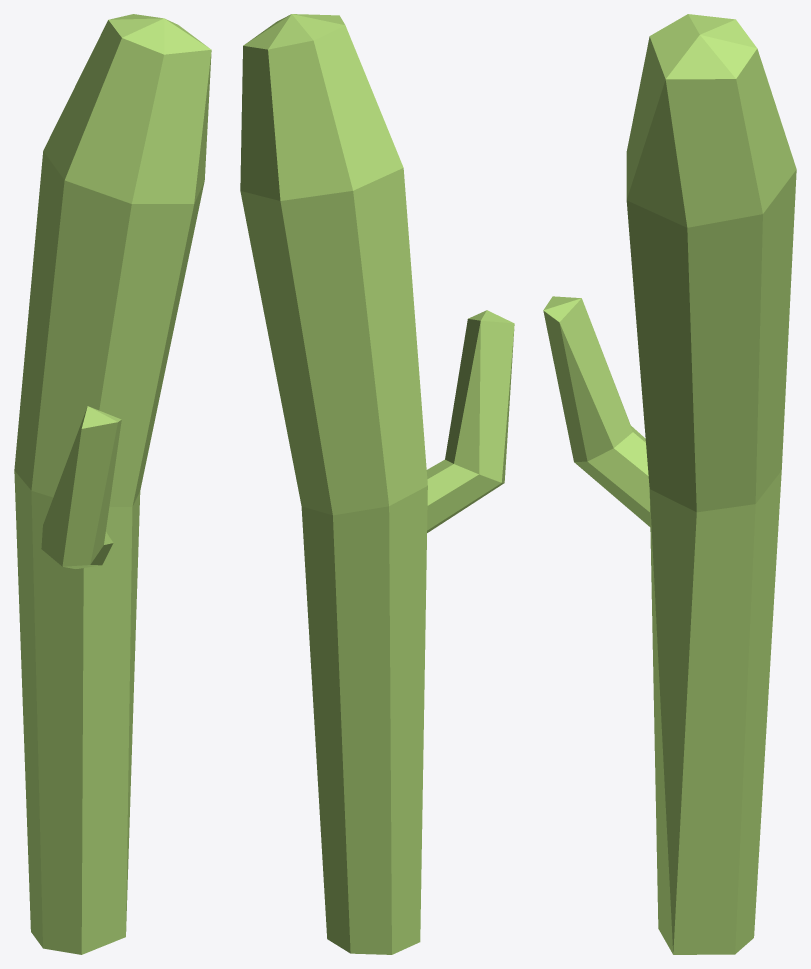
The model's file is Cactus_l_BT_04.fbx.
The picture shows the model from 3 angles, left to right: view 1: azimuth 30°, elevation 25°; view 2: azimuth 150°, elevation 25°; view 3: azimuth 270°, elevation 25°; orthographic projection. The views are drawn at different scales.
Parts seen in each view (by area): view 1: Cactus_l_BT_04; view 2: Cactus_l_BT_04; view 3: Cactus_l_BT_04.
Boxes of the visible parts, x1,y1,x2,y2 form: Cactus_l_BT_04: [14, 14, 211, 954]; Cactus_l_BT_04: [240, 14, 514, 954]; Cactus_l_BT_04: [543, 14, 796, 954].
Size of the model in its own units: 86.57 by 370 by 89.72.
